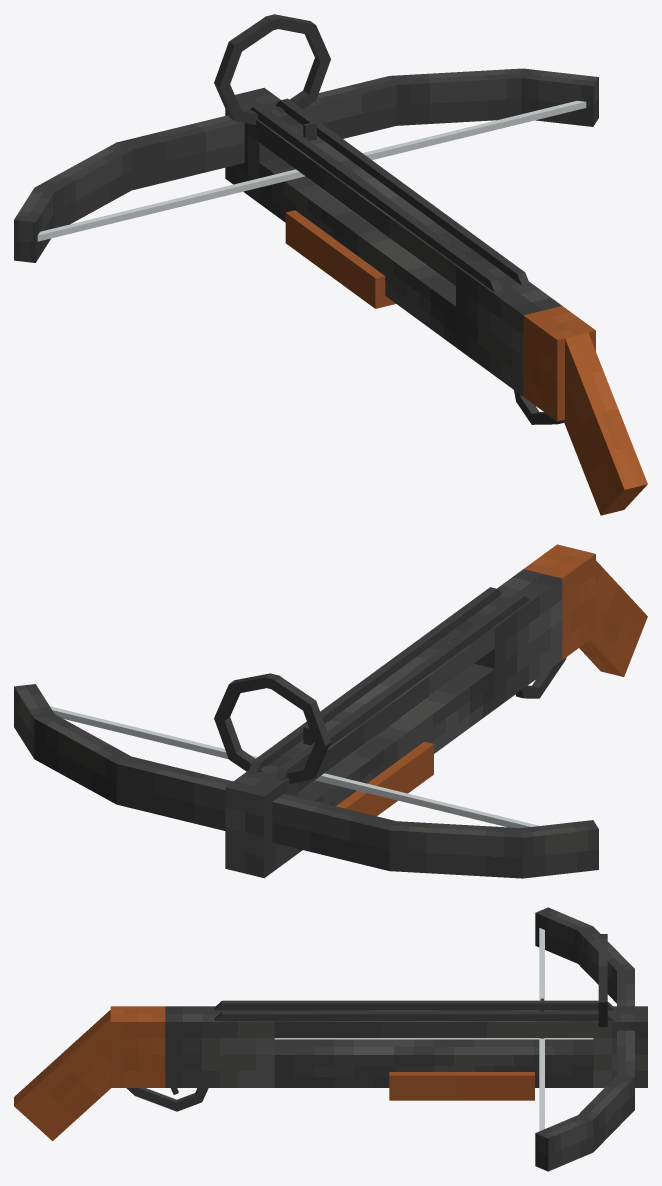
3 renders of one model, top to bottom at view 1: azimuth 30°, elevation 25°; view 2: azimuth 150°, elevation 25°; view 3: azimuth 270°, elevation 25°, orthographic. The views are drawn at different scales.
Visible parts, largest first — view 1: 9a27d01e-c682-b594-1744-877b73538b93, 304daa7c-97dc-d46f-68eb-881e97cd283c, 74cebeea-3f55-996b-1f3a-5c6fee203909, 4edc2bd6-378c-729a-e15b-672a51c28544, 66ee5ca1-325f-3559-1e65-fbe07178e68f, e9fe1c39-8f25-c27f-04e5-e1d5941e947d, 5fd1c8b3-4b64-1a54-e13e-2e60165b1cea, b82fb4a8-bbf8-d27a-c5cf-8e854c076ed9, a6ea4546-c915-c727-a02f-b3212c956a37, 480e77f8-4e02-91e1-df26-baa3109397e0, b1156fe6-5ffe-8bbd-76b1-042e47a4dfa4, d59aab08-f401-0fcb-5995-bf57f3d297ed (+6 smaller); view 2: 9a27d01e-c682-b594-1744-877b73538b93, 304daa7c-97dc-d46f-68eb-881e97cd283c, 4edc2bd6-378c-729a-e15b-672a51c28544, a6ea4546-c915-c727-a02f-b3212c956a37, 66ee5ca1-325f-3559-1e65-fbe07178e68f, 29fc1942-ce27-d694-6ea7-29cc7f2cbae1, e9fe1c39-8f25-c27f-04e5-e1d5941e947d, 74cebeea-3f55-996b-1f3a-5c6fee203909, b82fb4a8-bbf8-d27a-c5cf-8e854c076ed9, dd70c16b-ee62-1655-511d-eb751df56f21, 5fd1c8b3-4b64-1a54-e13e-2e60165b1cea, b1156fe6-5ffe-8bbd-76b1-042e47a4dfa4 (+10 smaller); view 3: 304daa7c-97dc-d46f-68eb-881e97cd283c, 4edc2bd6-378c-729a-e15b-672a51c28544, 74cebeea-3f55-996b-1f3a-5c6fee203909, 66ee5ca1-325f-3559-1e65-fbe07178e68f, b82fb4a8-bbf8-d27a-c5cf-8e854c076ed9, 480e77f8-4e02-91e1-df26-baa3109397e0, b1156fe6-5ffe-8bbd-76b1-042e47a4dfa4, 29fc1942-ce27-d694-6ea7-29cc7f2cbae1, 2a9caa66-1563-a15b-0689-f804a8b49eb4, d59aab08-f401-0fcb-5995-bf57f3d297ed, e9fe1c39-8f25-c27f-04e5-e1d5941e947d, dd70c16b-ee62-1655-511d-eb751df56f21 (+5 smaller).
Boxes of the visible parts, x1,y1,x2,y2 form: 9a27d01e-c682-b594-1744-877b73538b93: (117, 76, 399, 190); 304daa7c-97dc-d46f-68eb-881e97cd283c: (259, 157, 455, 346); 74cebeea-3f55-996b-1f3a-5c6fee203909: (563, 332, 647, 515); 4edc2bd6-378c-729a-e15b-672a51c28544: (456, 259, 561, 396); 66ee5ca1-325f-3559-1e65-fbe07178e68f: (259, 115, 484, 285); e9fe1c39-8f25-c27f-04e5-e1d5941e947d: (389, 68, 522, 125); 5fd1c8b3-4b64-1a54-e13e-2e60165b1cea: (37, 100, 586, 241); b82fb4a8-bbf8-d27a-c5cf-8e854c076ed9: (523, 306, 595, 421); a6ea4546-c915-c727-a02f-b3212c956a37: (35, 142, 133, 227); 480e77f8-4e02-91e1-df26-baa3109397e0: (253, 105, 497, 288); b1156fe6-5ffe-8bbd-76b1-042e47a4dfa4: (280, 98, 524, 281); d59aab08-f401-0fcb-5995-bf57f3d297ed: (517, 68, 598, 126); 9a27d01e-c682-b594-1744-877b73538b93: (116, 756, 398, 870); 304daa7c-97dc-d46f-68eb-881e97cd283c: (298, 663, 494, 853); 4edc2bd6-378c-729a-e15b-672a51c28544: (466, 569, 562, 708); a6ea4546-c915-c727-a02f-b3212c956a37: (389, 821, 524, 878); 66ee5ca1-325f-3559-1e65-fbe07178e68f: (269, 621, 494, 792); 29fc1942-ce27-d694-6ea7-29cc7f2cbae1: (225, 765, 297, 878); e9fe1c39-8f25-c27f-04e5-e1d5941e947d: (34, 714, 133, 804); 74cebeea-3f55-996b-1f3a-5c6fee203909: (579, 560, 647, 676); b82fb4a8-bbf8-d27a-c5cf-8e854c076ed9: (524, 544, 595, 659); dd70c16b-ee62-1655-511d-eb751df56f21: (517, 820, 598, 878); 5fd1c8b3-4b64-1a54-e13e-2e60165b1cea: (50, 706, 539, 827); b1156fe6-5ffe-8bbd-76b1-042e47a4dfa4: (253, 587, 497, 768); 304daa7c-97dc-d46f-68eb-881e97cd283c: (274, 1039, 593, 1087); 4edc2bd6-378c-729a-e15b-672a51c28544: (165, 1006, 274, 1087); 74cebeea-3f55-996b-1f3a-5c6fee203909: (14, 1010, 110, 1141); 66ee5ca1-325f-3559-1e65-fbe07178e68f: (274, 1010, 593, 1038); b82fb4a8-bbf8-d27a-c5cf-8e854c076ed9: (110, 1006, 165, 1087); 480e77f8-4e02-91e1-df26-baa3109397e0: (222, 1000, 598, 1010); b1156fe6-5ffe-8bbd-76b1-042e47a4dfa4: (222, 1011, 598, 1020); 29fc1942-ce27-d694-6ea7-29cc7f2cbae1: (593, 1006, 647, 1087); 2a9caa66-1563-a15b-0689-f804a8b49eb4: (389, 1072, 534, 1092); d59aab08-f401-0fcb-5995-bf57f3d297ed: (535, 1114, 593, 1171); e9fe1c39-8f25-c27f-04e5-e1d5941e947d: (577, 1074, 634, 1151); dd70c16b-ee62-1655-511d-eb751df56f21: (535, 907, 592, 963).
Bounding box in the file's own units: 0.9386 × 0.3779 × 1.09.
3 materials, 3 textured.
